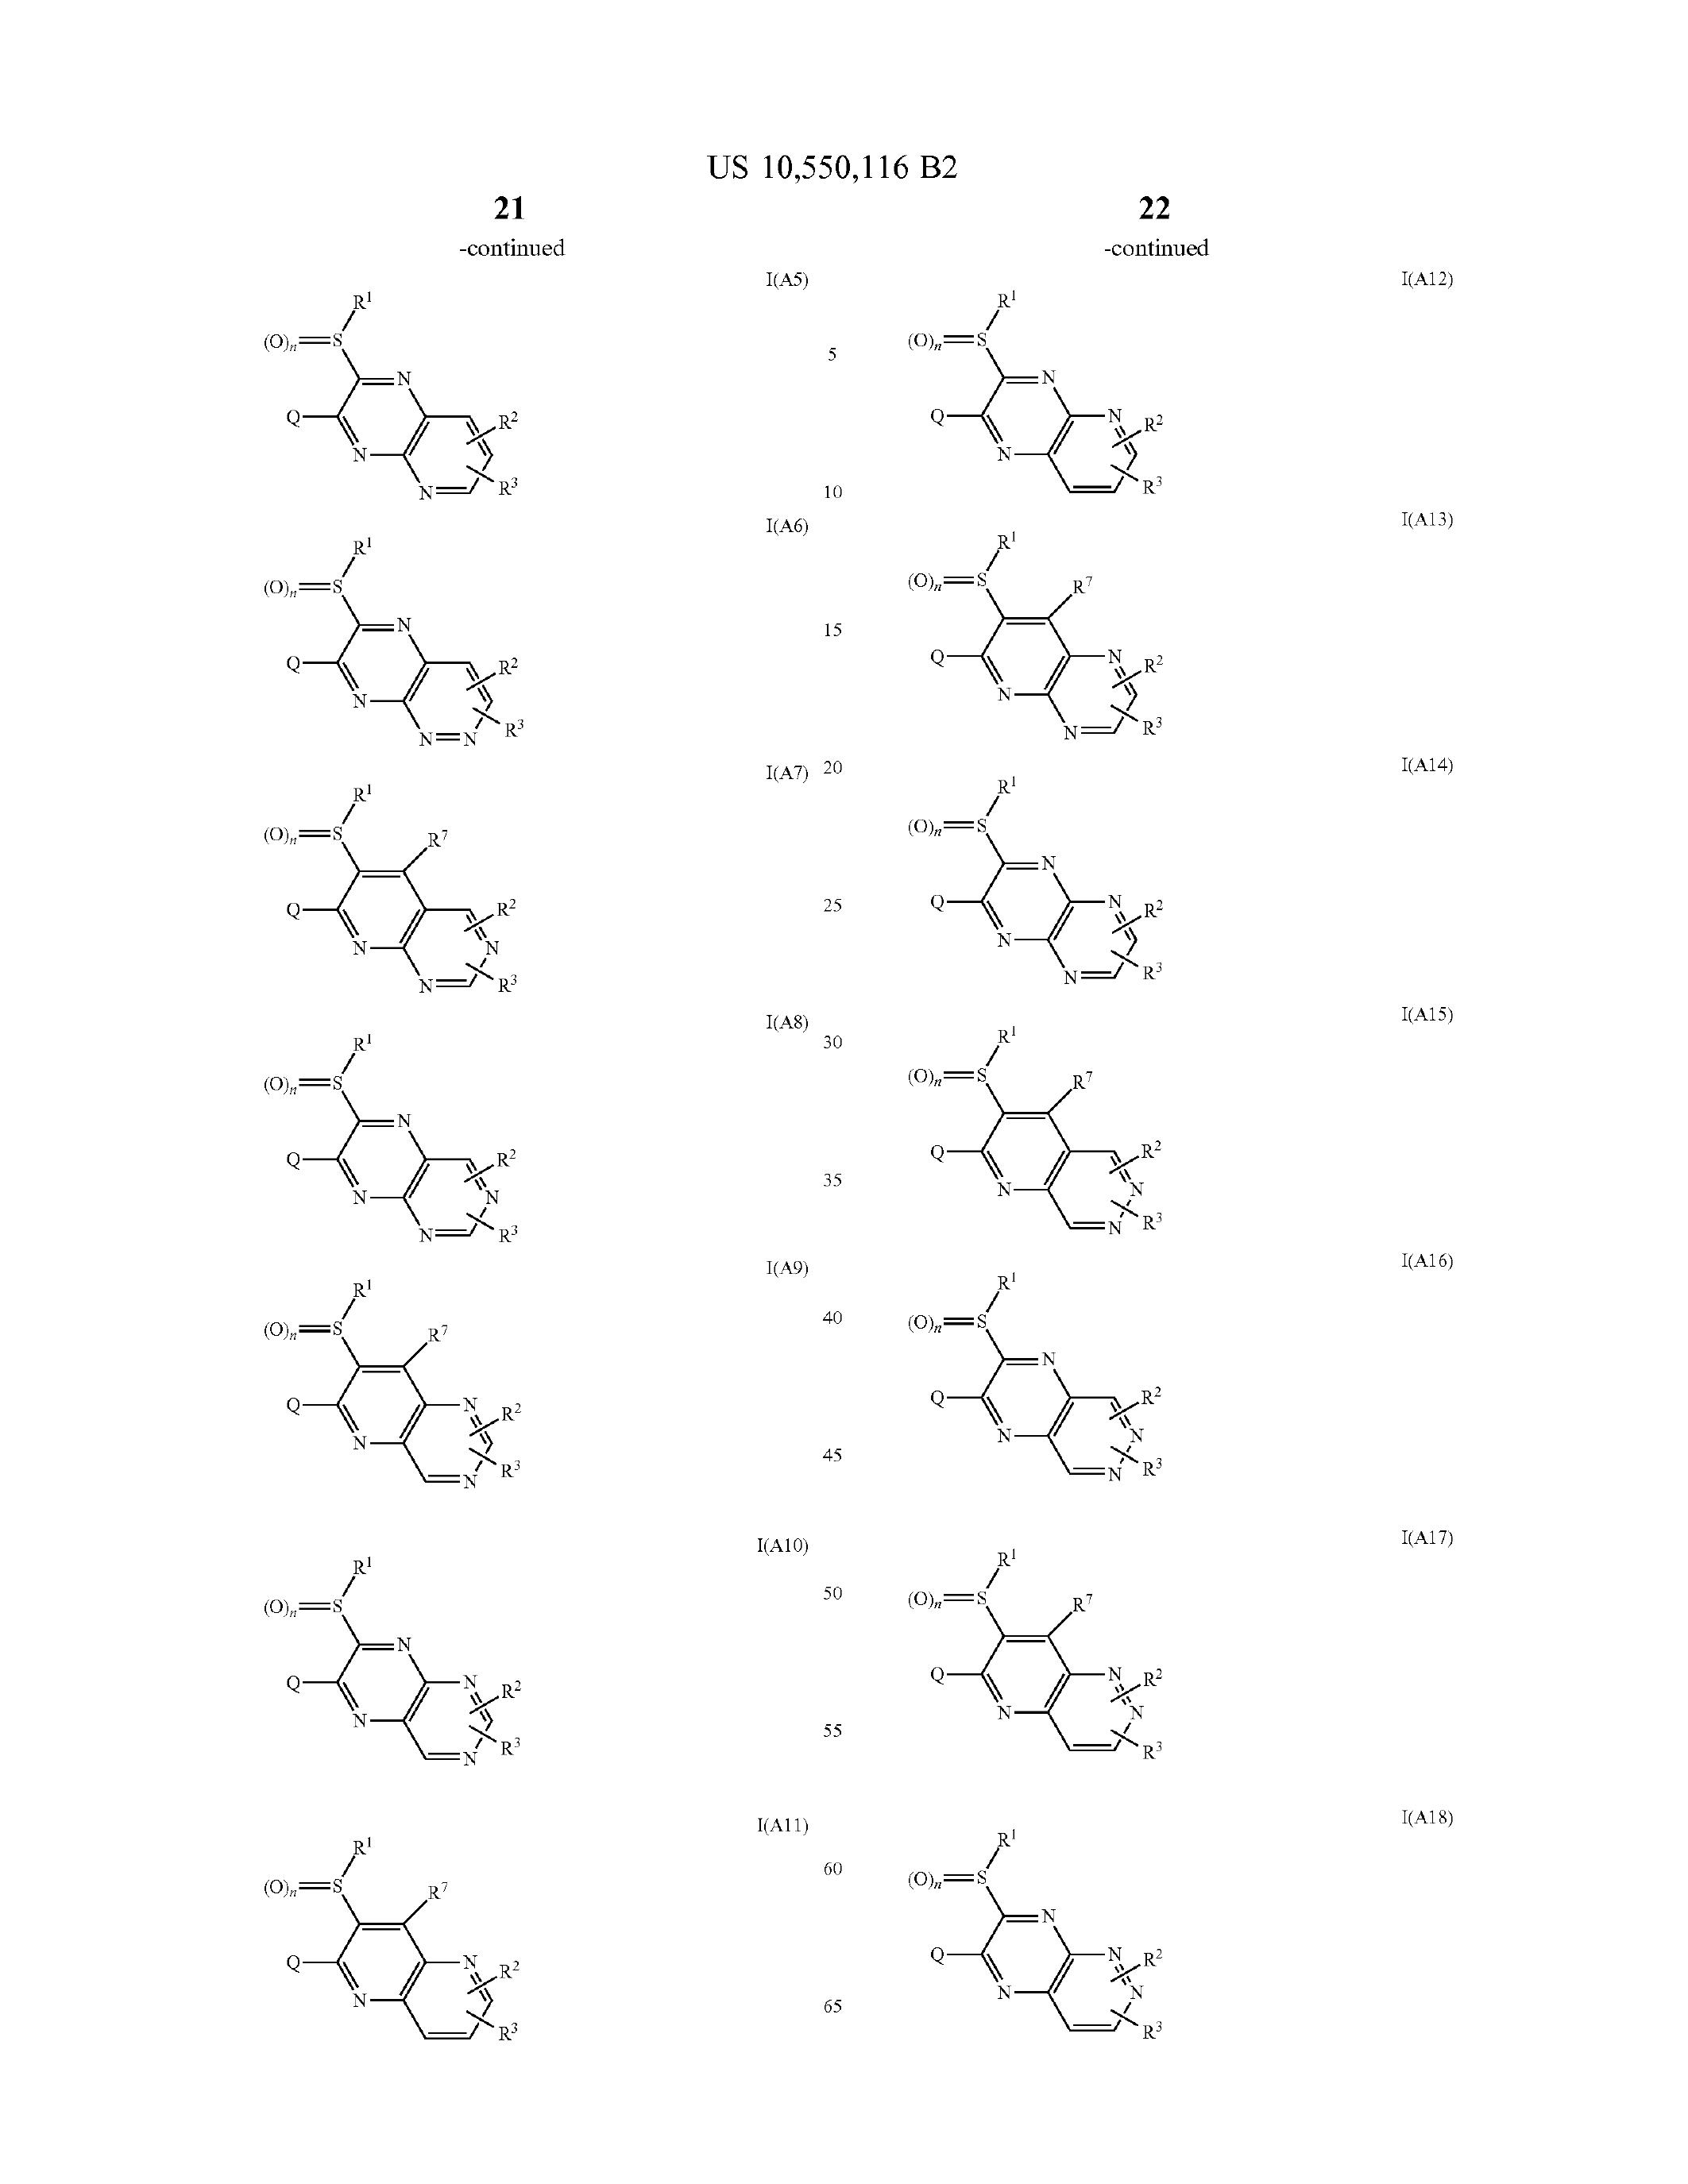markush-structures: (229, 1817, 582, 2092), (876, 1794, 1168, 2097), (222, 1535, 548, 1803), (899, 1248, 1190, 1533), (213, 1002, 537, 1246), (239, 252, 566, 495), (243, 1250, 535, 1516), (899, 264, 1202, 505), (255, 514, 559, 752), (888, 1539, 1184, 1778), (888, 514, 1186, 752), (243, 771, 559, 989), (888, 996, 1163, 1237), (899, 768, 1174, 984)
